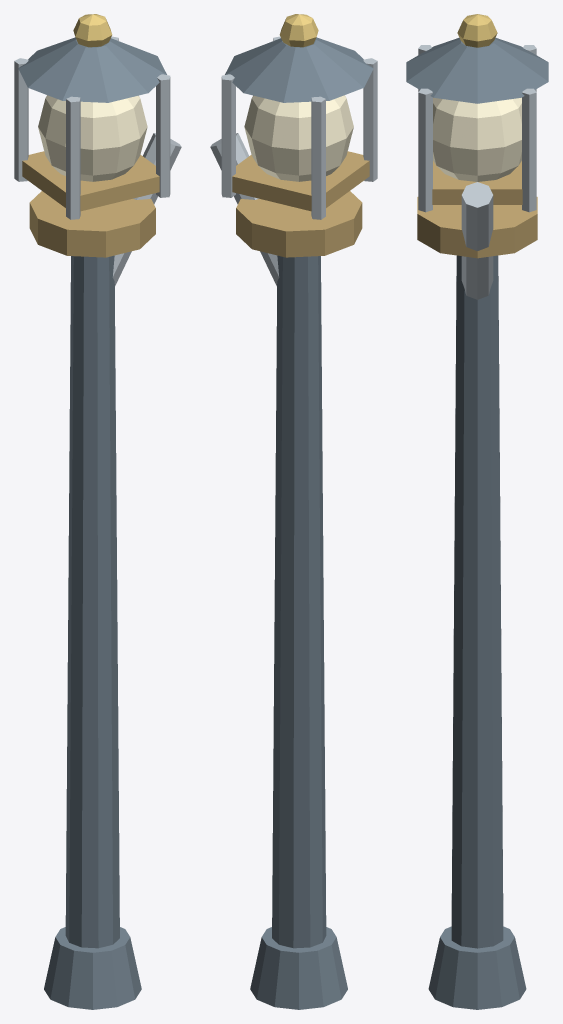
Rendered from farol.glb.
3 renders of one model, left to right at view 1: azimuth 30°, elevation 25°; view 2: azimuth 150°, elevation 25°; view 3: azimuth 270°, elevation 25°, orthographic.
Parts seen in each view (by area): view 1: farol; view 2: farol; view 3: farol.
Part boxes in pixels (x1,y1,x2,y2): farol: (14, 14, 181, 1009); farol: (210, 14, 377, 1009); farol: (406, 14, 548, 1009).
Bounding box in the file's own units: 0.6079 × 3.73 × 0.4945.
